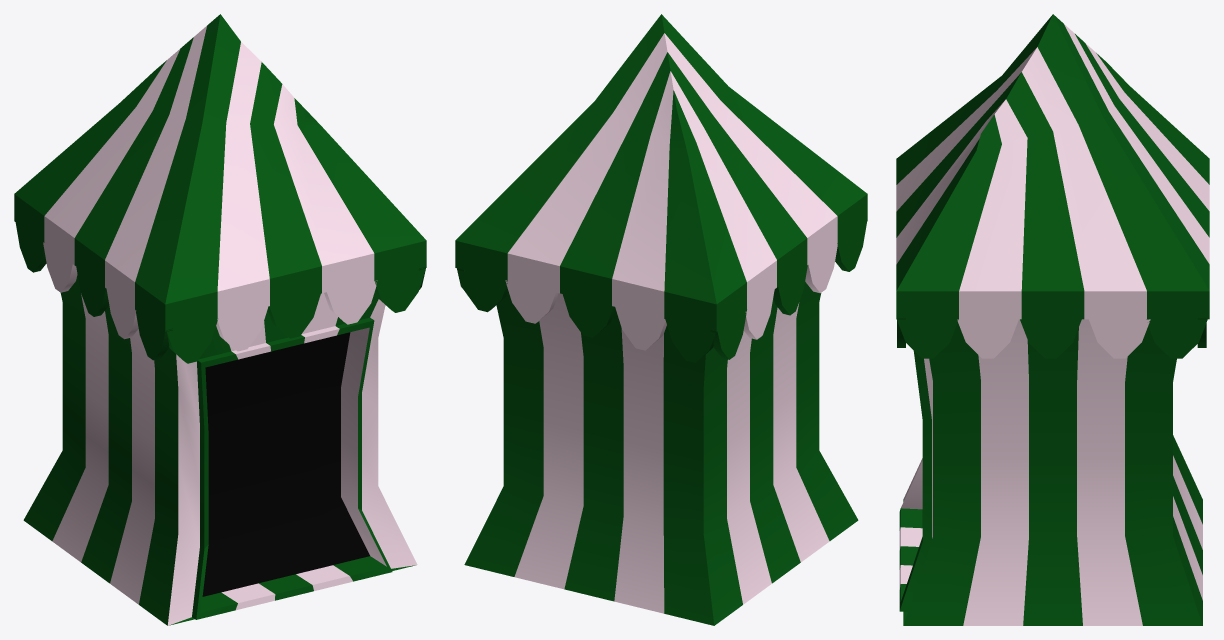
File: BarracaVerde.fbx
The picture shows the model from 3 angles, left to right: view 1: azimuth 30°, elevation 25°; view 2: azimuth 150°, elevation 25°; view 3: azimuth 270°, elevation 25°; orthographic projection. The views are drawn at different scales.
Visible parts, largest first — view 1: BarracaVerde; view 2: BarracaVerde; view 3: BarracaVerde.
Part boxes in pixels (x1=…): BarracaVerde: x1=14, y1=14, x2=426, y2=625; BarracaVerde: x1=455, y1=14, x2=867, y2=625; BarracaVerde: x1=896, y1=14, x2=1209, y2=625.
Bounding box in the file's own units: 237 × 458 × 237.
1 material, 1 textured.
